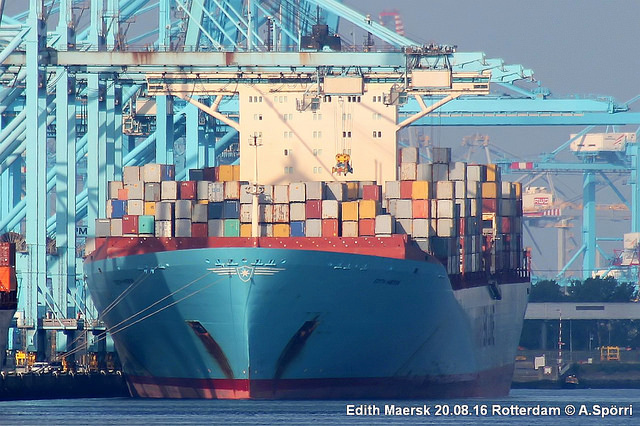container_ship: (80, 48, 536, 400)
